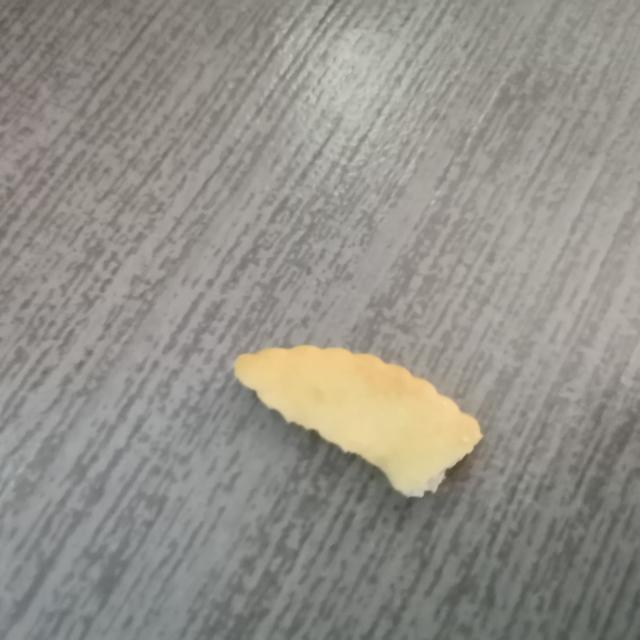Broken: (233, 343, 483, 499)
